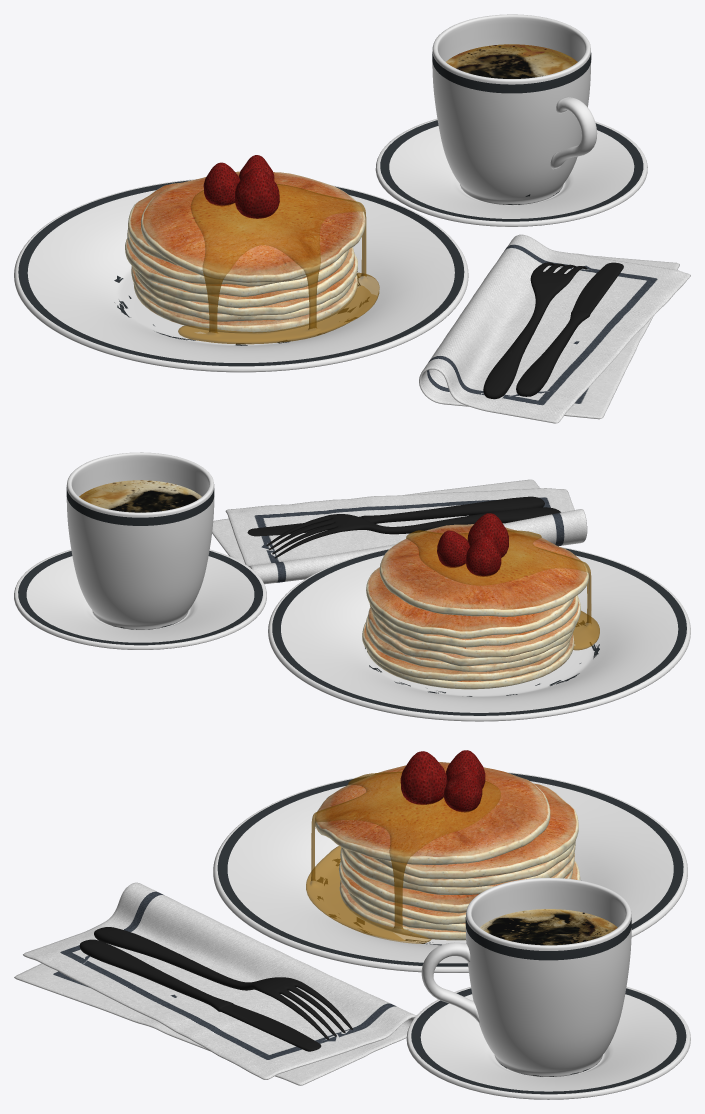
Rendered from food.glb.
The picture shows the model from 3 angles, top to bottom: view 1: azimuth 30°, elevation 25°; view 2: azimuth 150°, elevation 25°; view 3: azimuth 270°, elevation 25°; orthographic projection. The views are drawn at different scales.
Visible parts, largest first — view 1: root; view 2: root; view 3: root.
Boxes of the visible parts, x1=… form: root: x1=14, y1=14, x2=690, y2=423; root: x1=14, y1=452, x2=690, y2=721; root: x1=14, y1=750, x2=690, y2=1099.
Bounding box in the file's own units: 0.4126 × 0.0904 × 0.3663.
7 materials, 5 textured.
